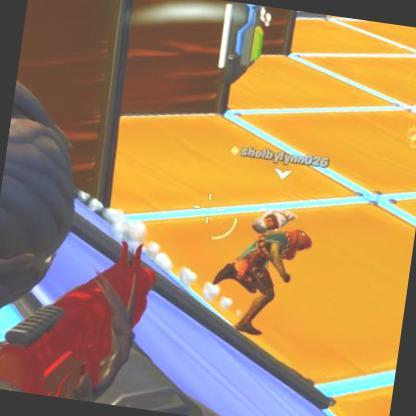person: (200, 201, 318, 343)
